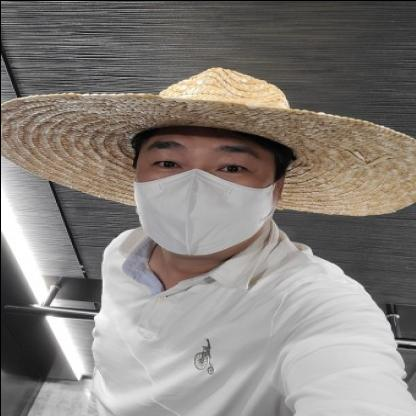hat: (1, 63, 415, 218)
